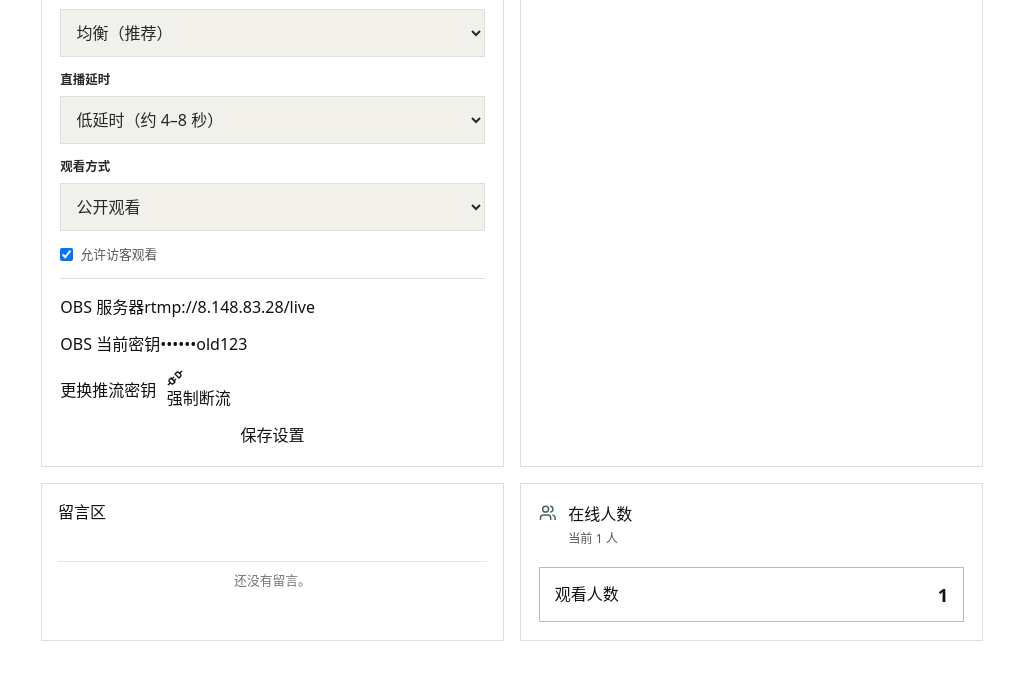
Test: live administrator workspace › shows a clear empty state when nobody is watching
The width and height of the screenshot is (1024, 689).
(page scrolled)
Click the button with aria-label "观看人数：1".
click(587, 594)  # box [539, 567, 964, 622]
(page scrolled)
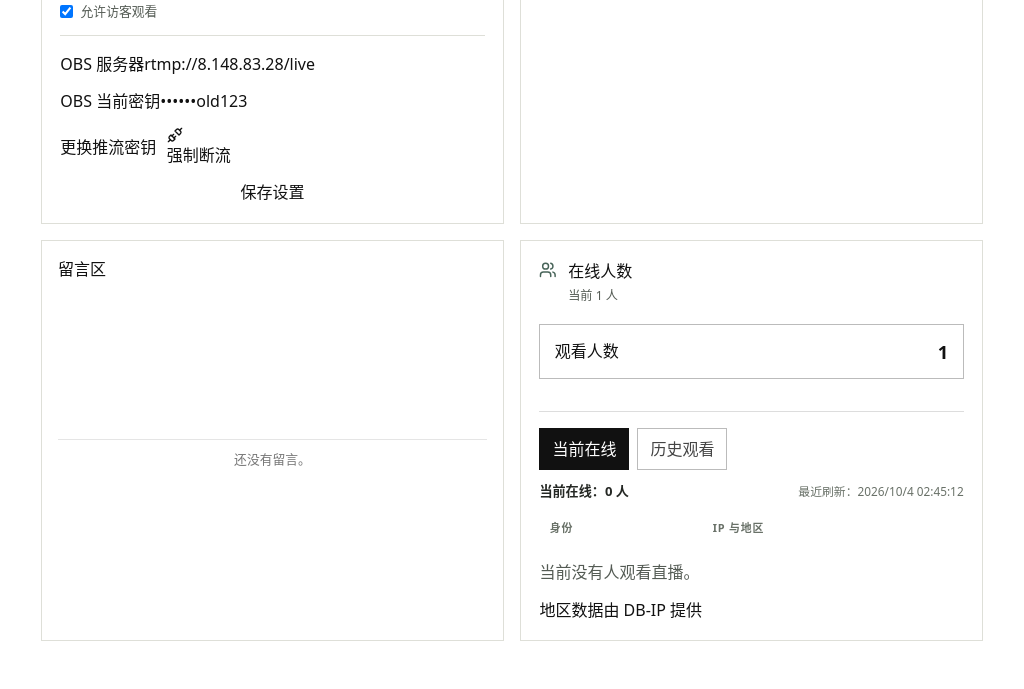
Now the text "当前没有人观看直播。" is shown, box [539, 561, 699, 583]
